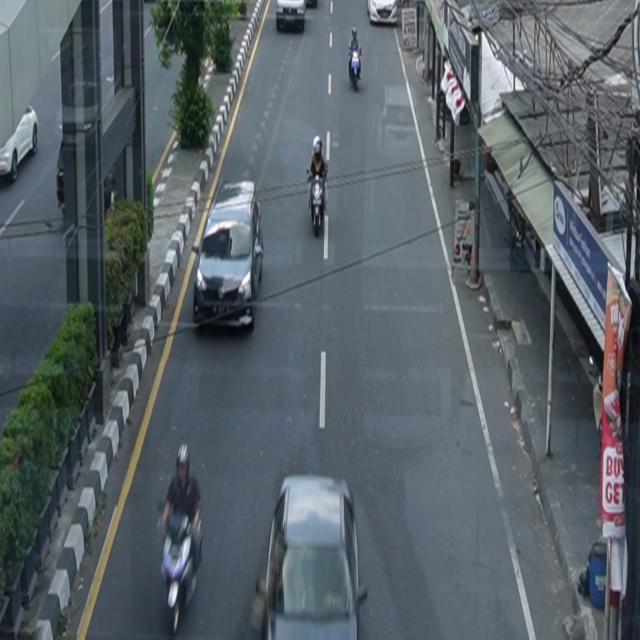car: (251, 475, 369, 640), (193, 181, 265, 332), (1, 104, 39, 183), (276, 1, 307, 33), (367, 1, 398, 26)
